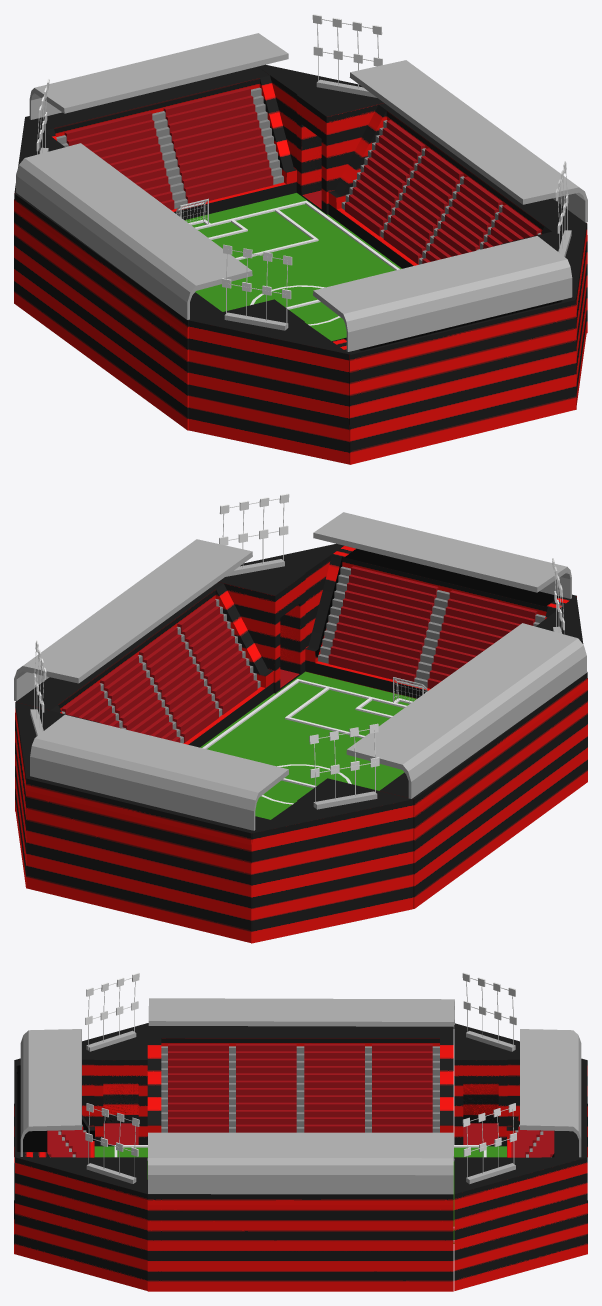
The model's file is AFAS.fbx.
The picture shows the model from 3 angles, top to bottom: view 1: azimuth 30°, elevation 25°; view 2: azimuth 150°, elevation 25°; view 3: azimuth 270°, elevation 25°; orthographic projection. The views are drawn at different scales.
Parts seen in each view (by area): view 1: Box008, Box011.003, Box010, Box012.001, Box015, Box001, Box012.002, Box011.001, Line008, Box014, Box003, Box005 (+8 smaller); view 2: Box003, Box011.001, Box010, Box012.001, Box014, Box001, Box012.002, Box011.003, Line021, Box015, Box008, Box005 (+8 smaller); view 3: Box005, Box011.001, Box011.003, Box012.002, Box012.001, Box010, Box014, Box015, Line026, Line023, Line027, Line025 (+10 smaller).
Part boxes in pixels (left/top/right/bottom): Box008: left=332, top=297, right=576, bottom=464; Box011.003: left=188, top=223, right=586, bottom=464; Box010: left=14, top=193, right=221, bottom=430; Box012.001: left=16, top=143, right=252, bottom=319; Box015: left=313, top=236, right=572, bottom=351; Box001: left=185, top=193, right=401, bottom=341; Box012.002: left=349, top=60, right=587, bottom=222; Box011.001: left=14, top=64, right=384, bottom=214; Line008: left=163, top=87, right=273, bottom=205; Box014: left=29, top=33, right=288, bottom=119; Box003: left=26, top=66, right=296, bottom=219; Box005: left=328, top=103, right=587, bottom=332; Box003: left=26, top=776, right=269, bottom=942; Box011.001: left=15, top=702, right=413, bottom=943; Box010: left=379, top=672, right=587, bottom=908; Box012.001: left=346, top=623, right=586, bottom=798; Box014: left=30, top=714, right=288, bottom=830; Box001: left=200, top=671, right=416, bottom=819; Box012.002: left=14, top=539, right=252, bottom=701; Box011.003: left=218, top=543, right=583, bottom=693; Line021: left=328, top=566, right=438, bottom=683; Box015: left=313, top=512, right=571, bottom=598; Box008: left=305, top=545, right=576, bottom=698; Box005: left=15, top=582, right=273, bottom=811; Box005: left=147, top=1180, right=453, bottom=1291; Box011.001: left=454, top=1023, right=587, bottom=1290; Box011.003: left=14, top=1023, right=147, bottom=1290; Box012.002: left=148, top=1132, right=453, bottom=1194; Box012.001: left=148, top=998, right=454, bottom=1028; Box010: left=147, top=1023, right=453, bottom=1144; Box014: left=520, top=1029, right=581, bottom=1157; Box015: left=20, top=1029, right=81, bottom=1156; Line026: left=372, top=1044, right=432, bottom=1132; Line023: left=168, top=1044, right=228, bottom=1132; Line027: left=236, top=1044, right=296, bottom=1132; Line025: left=304, top=1044, right=364, bottom=1132.
Size of the model in its own units: 815 by 354 by 1147.
Materials: 10 (3 with a texture image).
